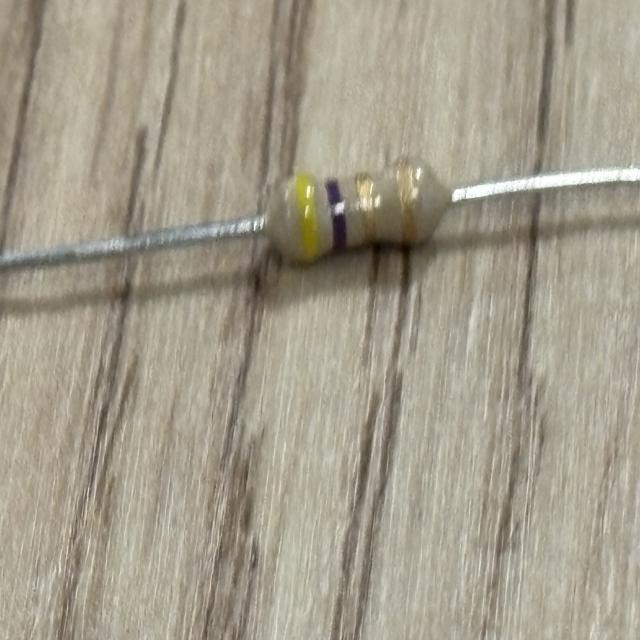resistor: (273, 158, 444, 269)
